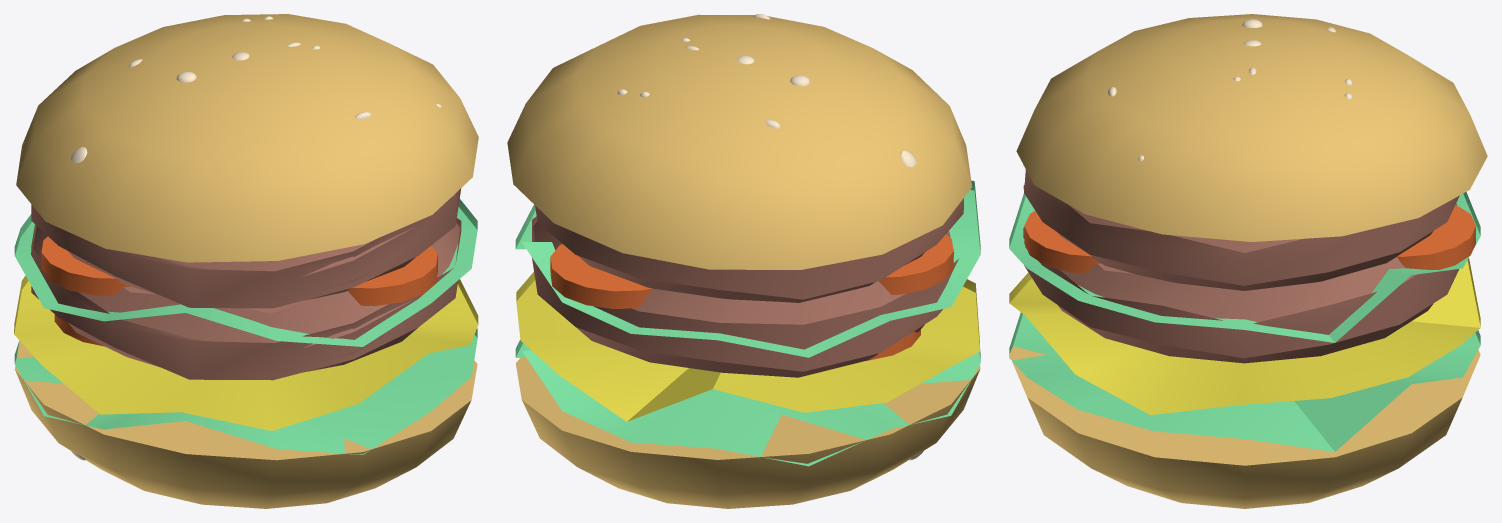
Rendered from burger.glb.
3 renders of one model, left to right at view 1: azimuth 30°, elevation 25°; view 2: azimuth 150°, elevation 25°; view 3: azimuth 270°, elevation 25°, orthographic.
Parts seen in each view (by area): view 1: burger-Mat, burger-Mat.4, burger-Mat.3, burger-Mat.2, burger-Mat.5, burger-Mat.1; view 2: burger-Mat, burger-Mat.4, burger-Mat.3, burger-Mat.2, burger-Mat.5, burger-Mat.1; view 3: burger-Mat, burger-Mat.4, burger-Mat.3, burger-Mat.2, burger-Mat.5, burger-Mat.1.
Part boxes in pixels (x1,y1,x2,y2): burger-Mat: (15, 14, 478, 508); burger-Mat.4: (31, 188, 461, 380); burger-Mat.3: (14, 276, 478, 430); burger-Mat.2: (14, 199, 477, 454); burger-Mat.5: (41, 236, 437, 346); burger-Mat.1: (71, 16, 441, 460); burger-Mat: (507, 14, 980, 508); burger-Mat.4: (532, 198, 963, 377); burger-Mat.3: (516, 272, 979, 421); burger-Mat.2: (515, 180, 980, 466); burger-Mat.5: (550, 234, 953, 360); burger-Mat.1: (617, 14, 923, 491); burger-Mat: (1009, 14, 1487, 508); burger-Mat.4: (1023, 165, 1459, 363); burger-Mat.3: (1009, 258, 1480, 415); burger-Mat.2: (1009, 192, 1480, 451); burger-Mat.5: (1024, 204, 1475, 273); burger-Mat.1: (1108, 19, 1358, 485).
Bounding box in the file's own units: 2.02 × 1.98 × 2.03.
